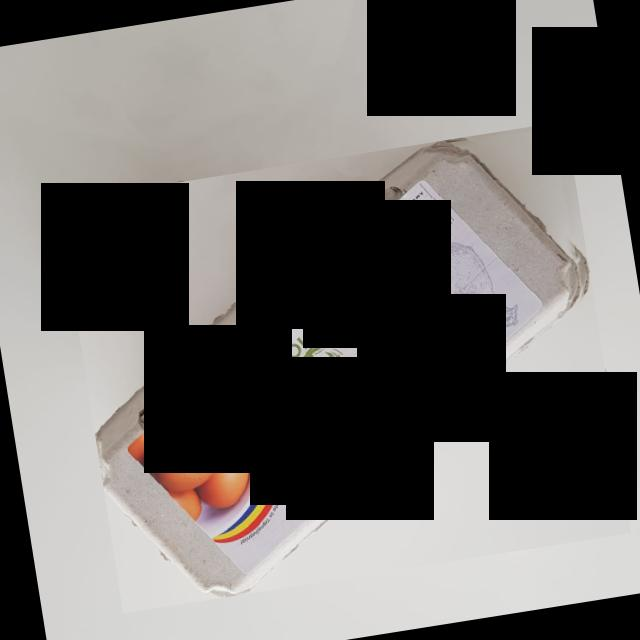eggs: (58, 121, 631, 613)
